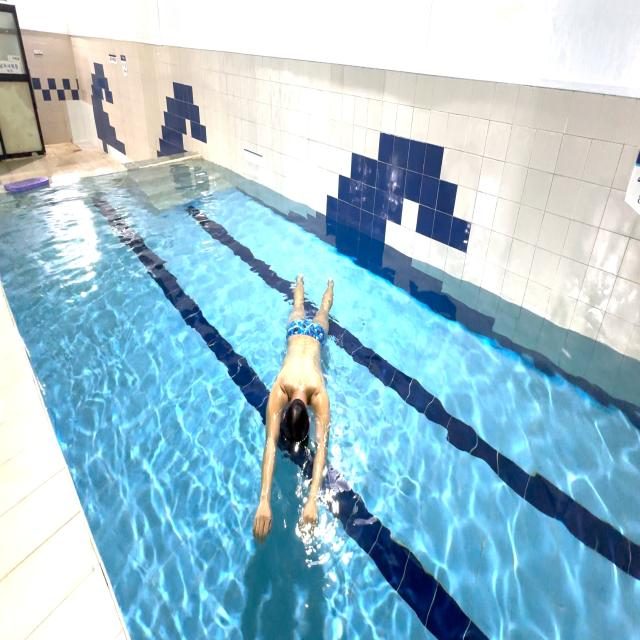Swimming: (242, 258, 356, 563)
